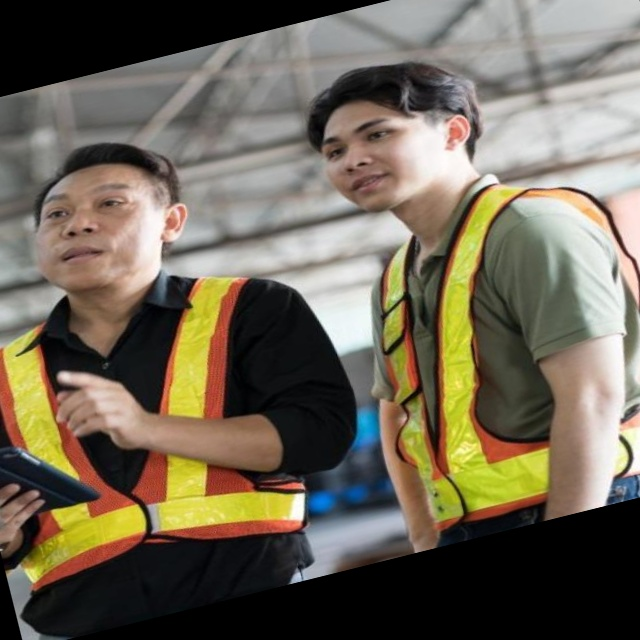Con_Chaleco: (332, 164, 640, 542), (0, 256, 336, 601)
Sin_Casco_Mascarrilla: (292, 41, 501, 226), (8, 125, 200, 304)
